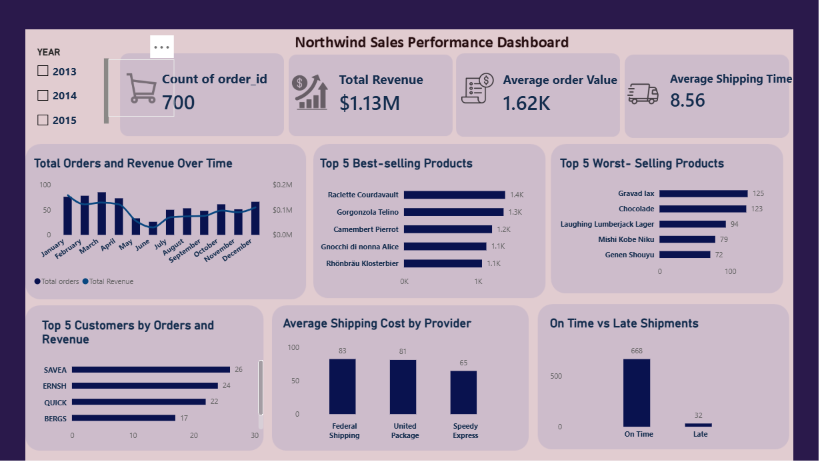

Layout of this report page (visuals, bound fields, positions):
{"tool":"powerbi","page":{"name":"Northwind Dashboard","canvas":[1920,1080],"ordinal":0},"visuals":[{"type":"cardVisual","fields":{"Data":["Count(public order_data.order_id)"]},"box":[531.5,218,211.2,127.2],"z":0},{"type":"cardVisual","fields":{"Data":["public customers_data.Total Revenue"]},"box":[826.9,219.2,200,126.9],"z":1000},{"type":"cardVisual","fields":{"Data":["public customers_data.Average order Value"]},"box":[1100,219.2,225,128.8],"z":2000},{"type":"cardVisual","fields":{"Data":["public customers_data.Average Shipping Time"]},"box":[1378.8,228.8,236.5,103.8],"z":3000},{"type":"lineClusteredColumnComboChart","title":"Total Orders and Revenue Over Time","fields":{"Category":["public order_data.order_date.Variation.Date Hierarchy.Month"],"Y":["public customers_data.Total orders"],"Y2":["public customers_data.Total Revenue"]},"box":[318.6,372.9,462.9,252.9],"z":4000},{"type":"clusteredBarChart","title":"Top 5 Best-selling Products","fields":{"Category":["public product_data.product_name"],"Y":["Sum(public order_details_data.quantity)"]},"box":[795.7,372.9,378.6,252.9],"z":5000},{"type":"clusteredBarChart","title":"Top 5 Worst- Selling Products","fields":{"Category":["public product_data.product_name"],"Y":["Sum(public order_details_data.quantity)"]},"box":[1195.7,372.9,384.3,235.7],"z":6000},{"type":"clusteredBarChart","title":"Top 5 Customers by Orders and Revenue","fields":{"Category":["public customers_data.customer_id"],"Y":["Count(public order_data.order_id)"]},"box":[331.5,642.6,401,240],"z":7000},{"type":"clusteredColumnChart","title":"Average Shipping Cost by Provider","fields":{"Category":["public shipper_data.company_name"],"Y":["Avg(public order_data.freight)"]},"box":[734,640,402,240],"z":8000},{"type":"clusteredColumnChart","title":"On Time vs Late Shipments","fields":{"Category":["public order_data.Delivery Status"],"Y":["Count(public order_data.order_id)"]},"box":[1178.6,640,401,240],"z":9000},{"type":"slicer","fields":{"Values":["public order_data.order_date.Variation.Date Hierarchy.Year"]},"box":[331.6,204.4,127.2,140.8],"z":10000},{"type":"image","box":[457.7,226.9,111.3,95.4],"z":10001},{"type":"image","box":[755.8,251.9,78.8,59.6],"z":10002},{"type":"image","box":[1046.2,226.9,53.8,96.2],"z":10003},{"type":"image","box":[1309.6,257.7,78.8,51.9],"z":10004}]}

Visuals, with their boxes in screenshot pixels (x1, y1, x2, y2), scaled from the page's 1920x1080 canvas onto the 819x461 screenshot:
cardVisual - Count(public order_data.order_id): 227:93:317:147
cardVisual - public customers_data.Total Revenue: 353:94:438:148
cardVisual - public customers_data.Average order Value: 469:94:565:149
cardVisual - public customers_data.Average Shipping Time: 588:98:689:142
"Total Orders and Revenue Over Time" lineClusteredColumnComboChart: 136:159:333:267
"Top 5 Best-selling Products" clusteredBarChart: 339:159:501:267
"Top 5 Worst- Selling Products" clusteredBarChart: 510:159:674:260
"Top 5 Customers by Orders and Revenue" clusteredBarChart: 141:274:312:377
"Average Shipping Cost by Provider" clusteredColumnChart: 313:273:485:376
"On Time vs Late Shipments" clusteredColumnChart: 503:273:674:376
slicer - public order_data.order_date.Variation.Date Hierarchy.Year: 141:87:196:147
image: 195:97:243:138
image: 322:108:356:133
image: 446:97:469:138
image: 559:110:592:132
